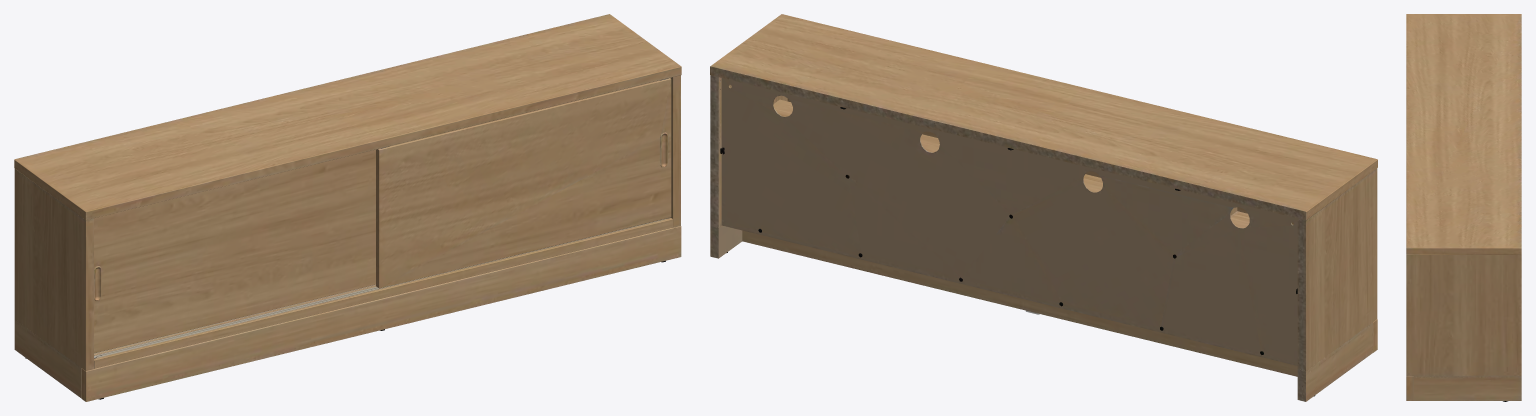
3 views of the same model, side by side, from view 1: azimuth 30°, elevation 25°; view 2: azimuth 150°, elevation 25°; view 3: azimuth 270°, elevation 25° (orthographic). The views are drawn at different scales.
Visible parts, largest first — view 1: 00489302-TONSTAD001; view 2: 00489302-TONSTAD001; view 3: 00489302-TONSTAD001.
Boxes of the visible parts, x1,y1,x2,y2 form: 00489302-TONSTAD001: (14,14,681,401); 00489302-TONSTAD001: (710,14,1377,401); 00489302-TONSTAD001: (1406,14,1521,401).
Bounding box in the file's own units: 1.78 × 0.549 × 0.372.
1 material, 1 textured.
